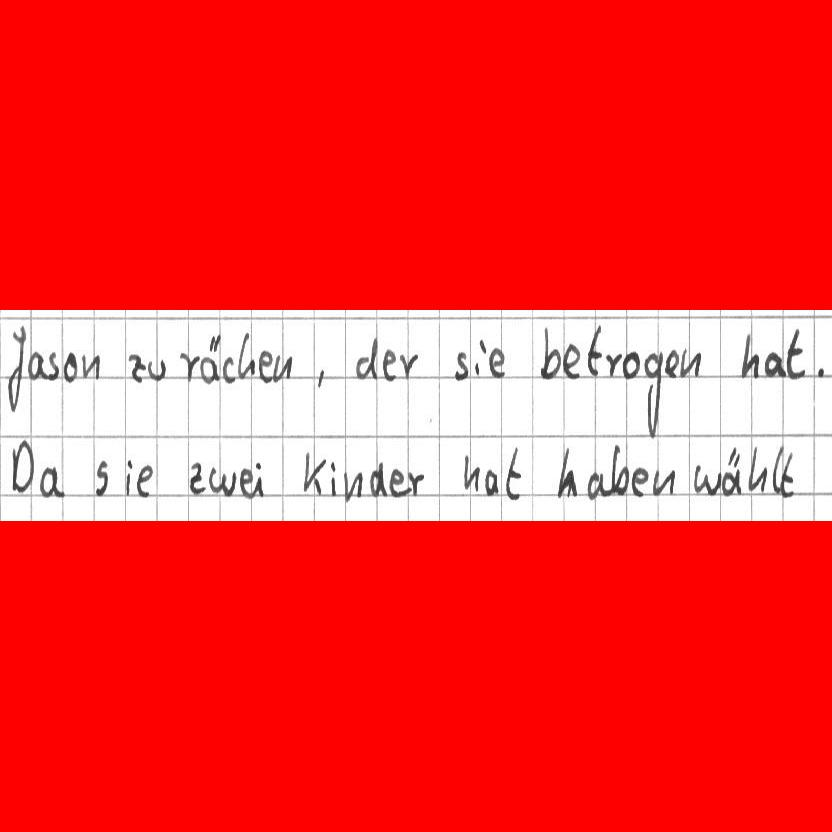Char: (5, 324, 27, 414), (643, 349, 663, 440), (11, 438, 35, 496), (555, 446, 580, 499), (538, 325, 562, 380), (746, 444, 771, 496), (352, 335, 379, 382), (301, 449, 327, 496), (199, 332, 222, 385), (785, 327, 808, 380), (720, 445, 743, 497), (505, 445, 525, 503), (609, 442, 630, 496), (236, 331, 257, 380), (739, 331, 760, 379), (38, 465, 67, 499), (208, 465, 238, 497), (694, 463, 722, 497), (779, 449, 797, 499), (586, 324, 603, 376), (341, 468, 363, 504), (561, 342, 581, 380), (651, 467, 677, 496), (679, 346, 701, 379), (369, 461, 389, 497), (462, 452, 480, 492), (178, 350, 200, 382), (92, 458, 110, 497), (586, 470, 609, 500), (381, 346, 399, 384), (136, 463, 154, 500), (271, 352, 293, 382), (620, 349, 641, 380), (629, 466, 650, 497), (763, 350, 786, 378), (389, 467, 410, 497), (27, 349, 47, 380), (487, 346, 506, 378), (399, 351, 419, 381), (772, 444, 784, 494), (62, 349, 79, 383), (187, 461, 205, 493), (127, 352, 146, 382), (254, 460, 269, 498), (147, 357, 168, 383), (258, 348, 273, 384), (81, 352, 100, 380), (407, 469, 425, 498), (44, 349, 60, 381), (663, 347, 679, 379), (483, 467, 500, 497), (474, 337, 487, 376), (453, 350, 469, 381), (239, 467, 254, 499), (221, 355, 236, 385), (605, 352, 622, 378), (329, 458, 339, 498), (125, 456, 134, 498), (316, 366, 325, 389), (816, 364, 826, 380)
